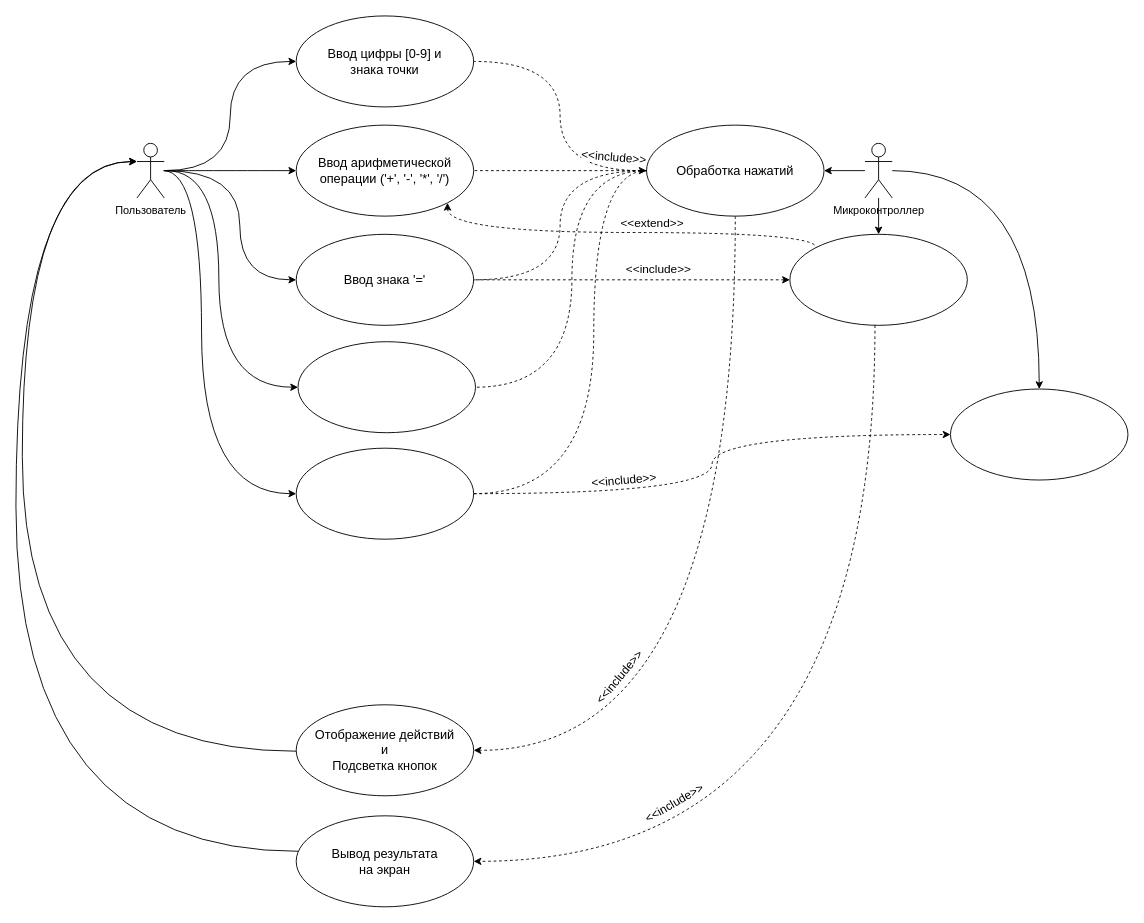
The diagram is 1144 pixels wide and 923 high, and some of its shapes have lost their labels. The centre of each missing label's shape, as x and y in pixels:
Взаимодействие с внутренней памятью: the point at 1039,434
Вычисление выражения: the point at 878,279
Очистка экрана и всех параметров: the point at 386,387
Чтение / Запись в память: the point at 384,493
